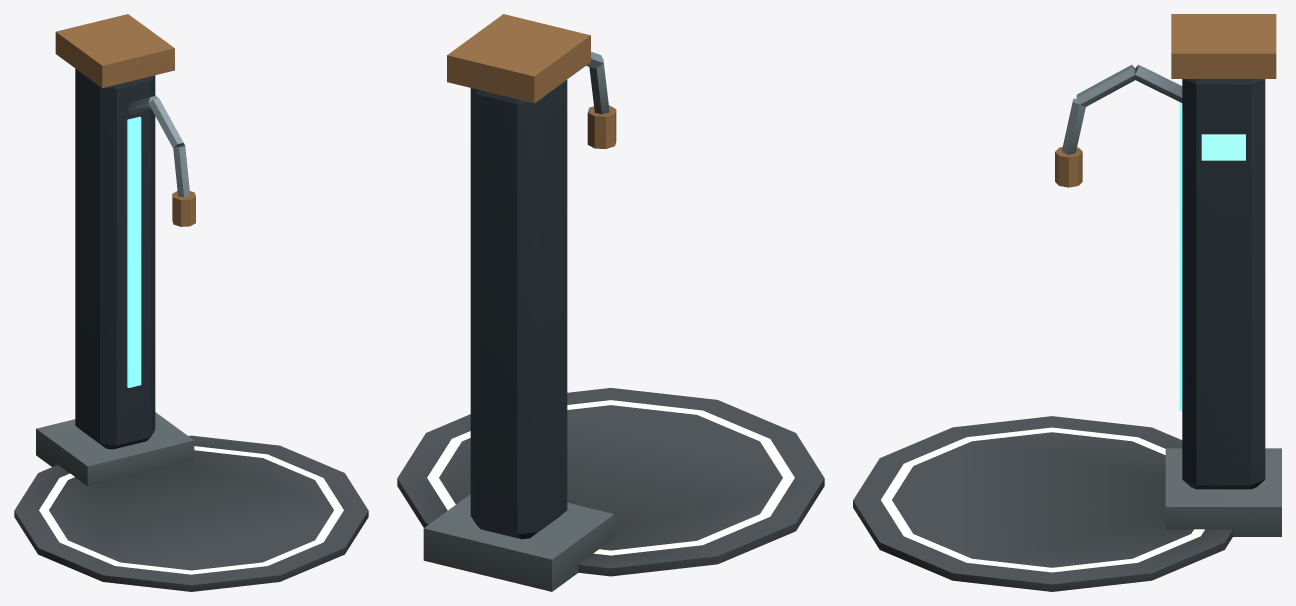
File: charge-post.lod1.glb
The picture shows the model from 3 angles, left to right: view 1: azimuth 30°, elevation 25°; view 2: azimuth 150°, elevation 25°; view 3: azimuth 270°, elevation 25°; orthographic projection. The views are drawn at different scales.
Parts seen in each view (by area): view 1: structure; view 2: structure; view 3: structure.
Boxes of the visible parts, x1,y1,x2,y2 form: structure: (14, 14, 368, 591); structure: (397, 14, 824, 591); structure: (853, 14, 1281, 591).
Bounding box in the file's own units: 1.44 × 1.89 × 1.55.
